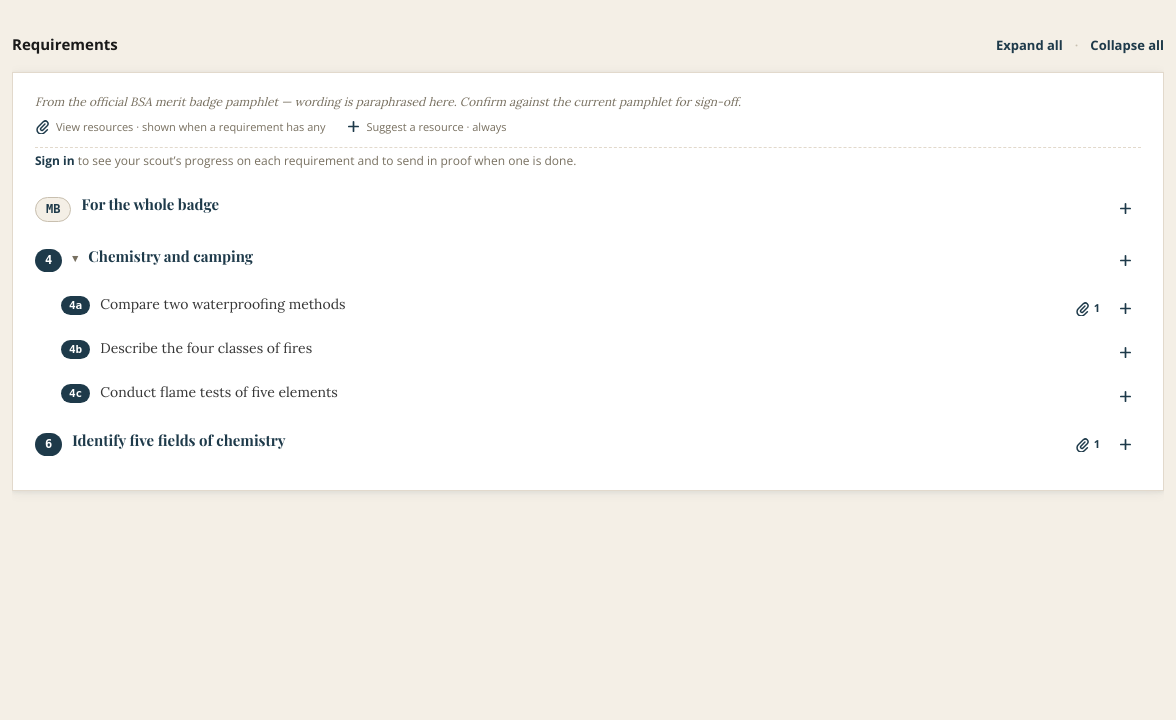
Test: Library MB consolidated requirement rows › Anyone_ExpandAllCollapseAll_TogglesEveryRow
Expected: the link "Waterproofing guide" is not shown
Click the button "Expand all" at (1029, 46), box [996,32,1063,60]
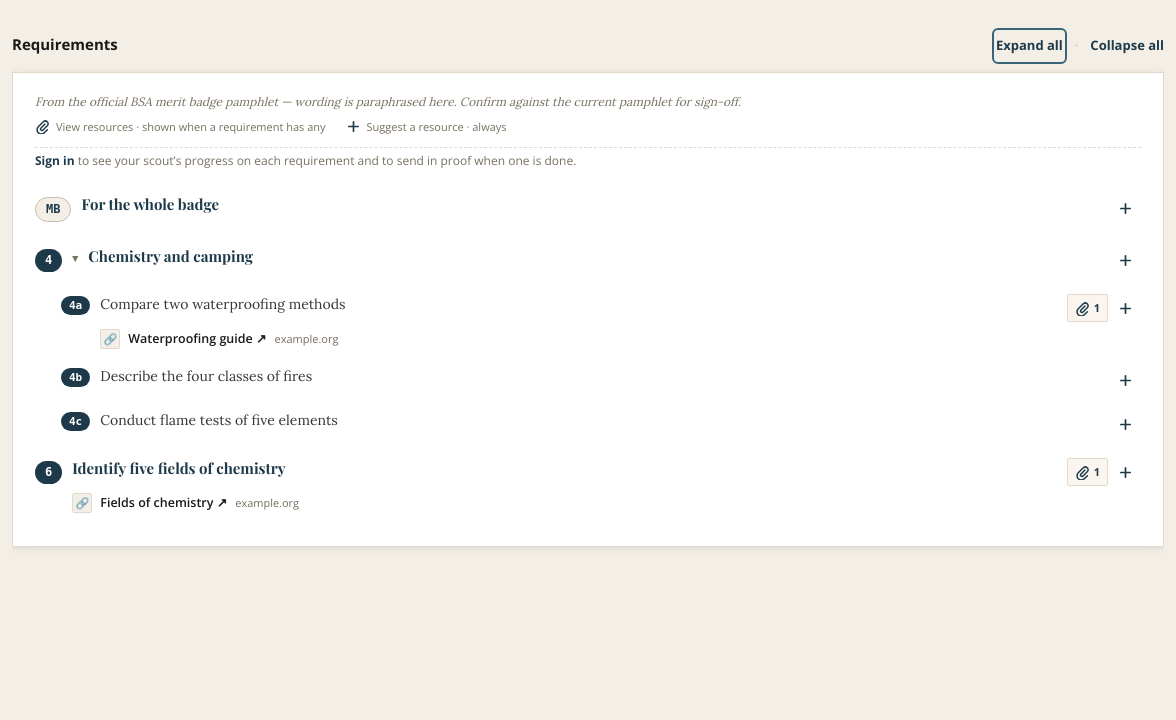
Expected: the link "Waterproofing guide ↗" is shown, [128,330,267,348]
Expected: the link "Fields of chemistry ↗" is shown, [100,494,227,512]
Click the button "Collapse all" at (1127, 46), box [1090,32,1164,60]
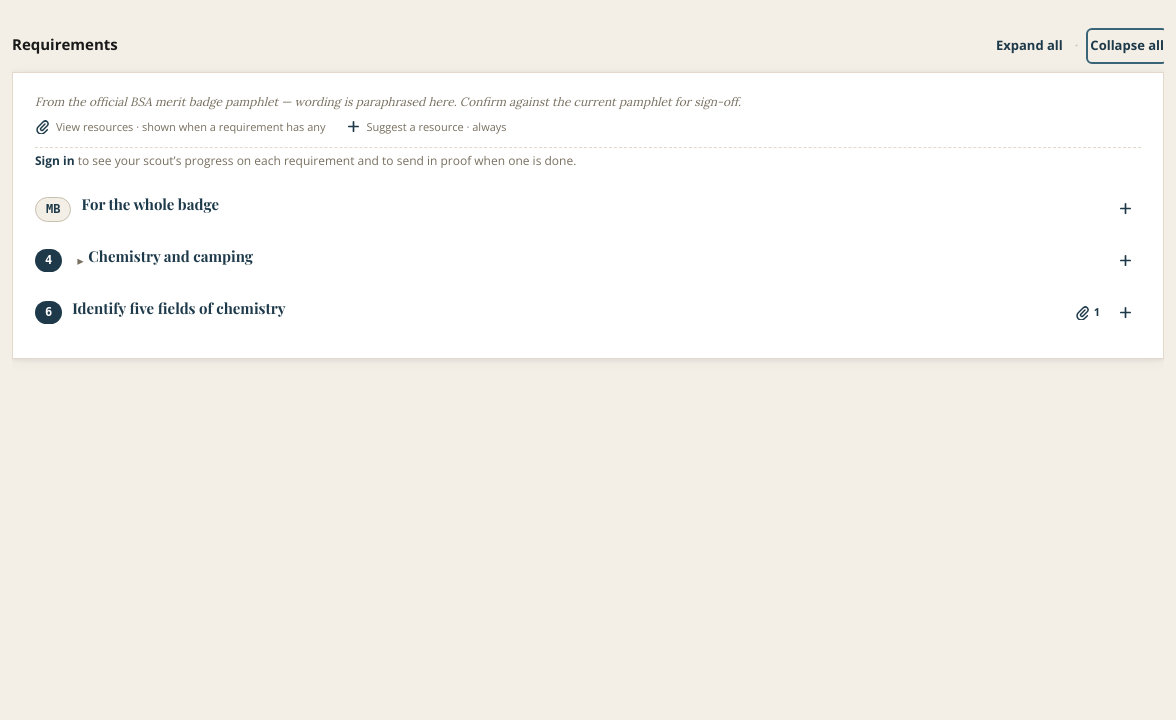
Expected: the link "Waterproofing guide" is gone
Expected: the button "Compare two waterproofing methods" is gone
